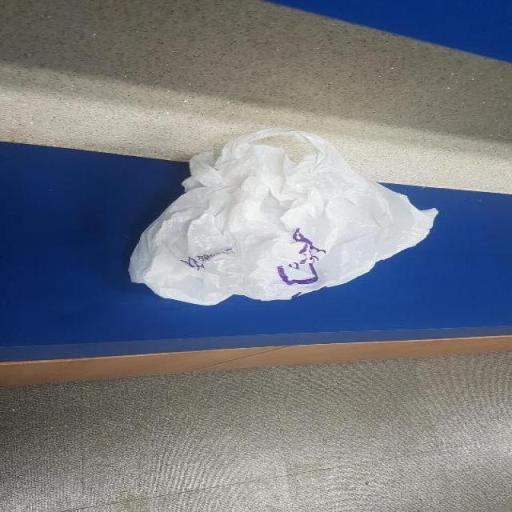plastic-bag: (120, 127, 442, 310)
